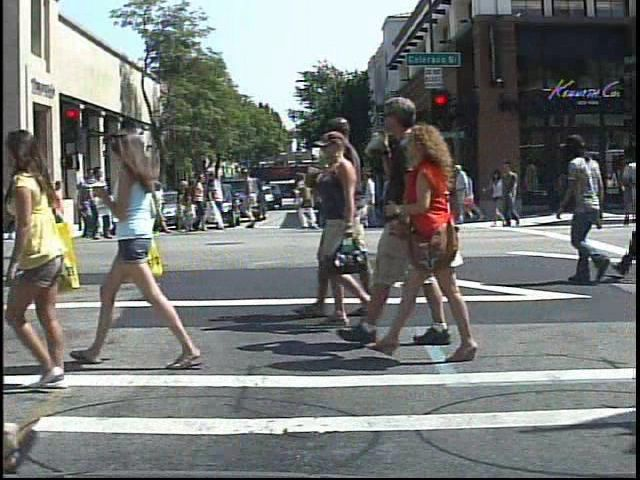person: (345, 87, 464, 349), (383, 118, 498, 363), (93, 112, 190, 376), (4, 124, 81, 385), (558, 126, 618, 286), (127, 160, 161, 244), (85, 162, 115, 241), (33, 167, 62, 244), (451, 160, 482, 232), (10, 180, 31, 242), (94, 181, 114, 220)
